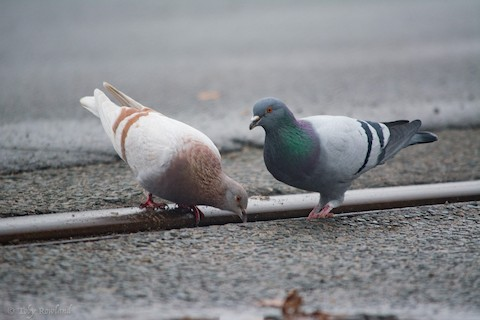pigeon: (77, 78, 256, 232), (246, 93, 443, 226)
